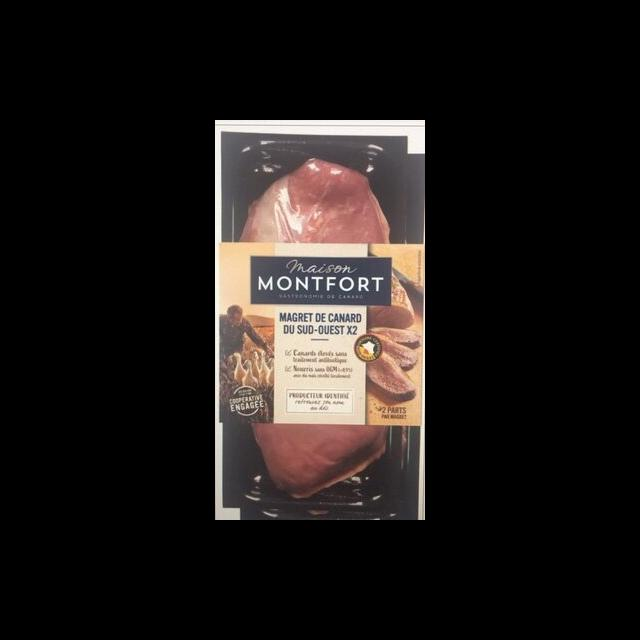beef: (242, 159, 391, 496)
